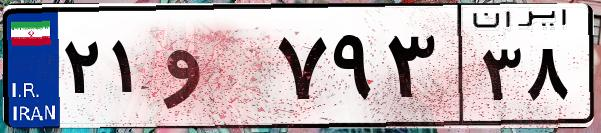1: (110, 28, 158, 98)
2: (57, 26, 110, 100)
3: (385, 28, 445, 110), (475, 38, 525, 113)
7: (270, 28, 330, 110)
8: (525, 38, 570, 115)
9: (330, 28, 385, 110)
و: (158, 20, 270, 120)
